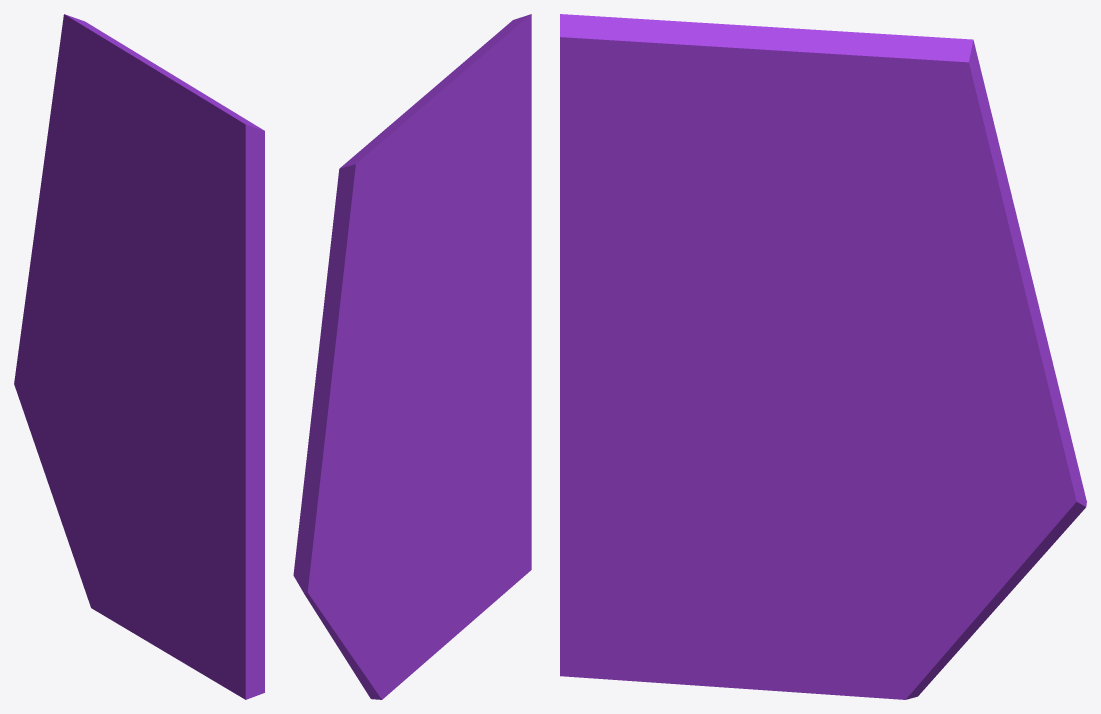
File: Glass_84_0_12_chunks.fbx
The picture shows the model from 3 angles, left to right: view 1: azimuth 30°, elevation 25°; view 2: azimuth 150°, elevation 25°; view 3: azimuth 270°, elevation 25°; orthographic projection. The views are drawn at different scales.
Visible parts, largest first — view 1: Glass_84_0_12_1, Glass_84_0_12_3, Glass_84_0_12_8, Glass_84_0_12_12, Glass_84_0_12_6, Glass_84_0_12_0, Glass_84_0_12_4, Glass_84_0_12_7, Glass_84_0_12_2, Glass_84_0_12_10, Glass_84_0_12_9, Glass_84_0_12_5 (+1 smaller); view 2: Glass_84_0_12_1, Glass_84_0_12_8, Glass_84_0_12_6, Glass_84_0_12_0, Glass_84_0_12_3, Glass_84_0_12_4, Glass_84_0_12_12, Glass_84_0_12_7, Glass_84_0_12_2, Glass_84_0_12_10, Glass_84_0_12_5, Glass_84_0_12_9; view 3: Glass_84_0_12_1, Glass_84_0_12_8, Glass_84_0_12_4, Glass_84_0_12_3, Glass_84_0_12_6, Glass_84_0_12_7, Glass_84_0_12_0, Glass_84_0_12_2, Glass_84_0_12_12, Glass_84_0_12_10, Glass_84_0_12_11, Glass_84_0_12_9.
Part boxes in pixels (left/top/right/bottom): Glass_84_0_12_1: left=21, top=376, right=198, bottom=671; Glass_84_0_12_3: left=174, top=473, right=264, bottom=699; Glass_84_0_12_8: left=86, top=25, right=264, bottom=239; Glass_84_0_12_12: left=188, top=128, right=264, bottom=329; Glass_84_0_12_6: left=36, top=14, right=108, bottom=280; Glass_84_0_12_0: left=14, top=217, right=107, bottom=404; Glass_84_0_12_4: left=116, top=204, right=198, bottom=439; Glass_84_0_12_7: left=71, top=201, right=175, bottom=347; Glass_84_0_12_2: left=107, top=336, right=185, bottom=591; Glass_84_0_12_10: left=173, top=299, right=228, bottom=489; Glass_84_0_12_9: left=213, top=317, right=264, bottom=494; Glass_84_0_12_5: left=73, top=19, right=142, bottom=214; Glass_84_0_12_1: left=293, top=452, right=486, bottom=699; Glass_84_0_12_8: left=350, top=14, right=531, bottom=246; Glass_84_0_12_6: left=310, top=155, right=398, bottom=424; Glass_84_0_12_0: left=294, top=398, right=398, bottom=602; Glass_84_0_12_3: left=462, top=372, right=531, bottom=608; Glass_84_0_12_4: left=406, top=157, right=485, bottom=420; Glass_84_0_12_12: left=476, top=18, right=531, bottom=263; Glass_84_0_12_7: left=363, top=225, right=463, bottom=424; Glass_84_0_12_2: left=398, top=402, right=472, bottom=565; Glass_84_0_12_10: left=461, top=258, right=514, bottom=438; Glass_84_0_12_5: left=362, top=136, right=431, bottom=281; Glass_84_0_12_9: left=500, top=209, right=531, bottom=390; Glass_84_0_12_1: left=648, top=409, right=1078, bottom=699; Glass_84_0_12_8: left=560, top=14, right=943, bottom=225; Glass_84_0_12_4: left=588, top=87, right=853, bottom=474; Glass_84_0_12_3: left=560, top=426, right=726, bottom=682; Glass_84_0_12_6: left=865, top=38, right=1036, bottom=375; Glass_84_0_12_7: left=708, top=221, right=971, bottom=409; Glass_84_0_12_0: left=913, top=294, right=1086, bottom=517; Glass_84_0_12_2: left=707, top=396, right=865, bottom=583; Glass_84_0_12_12: left=560, top=53, right=623, bottom=266; Glass_84_0_12_10: left=585, top=288, right=659, bottom=446; Glass_84_0_12_11: left=560, top=199, right=627, bottom=330; Glass_84_0_12_9: left=560, top=325, right=606, bottom=430.
Size of the model in its own units: 27.2 by 808 by 569.
